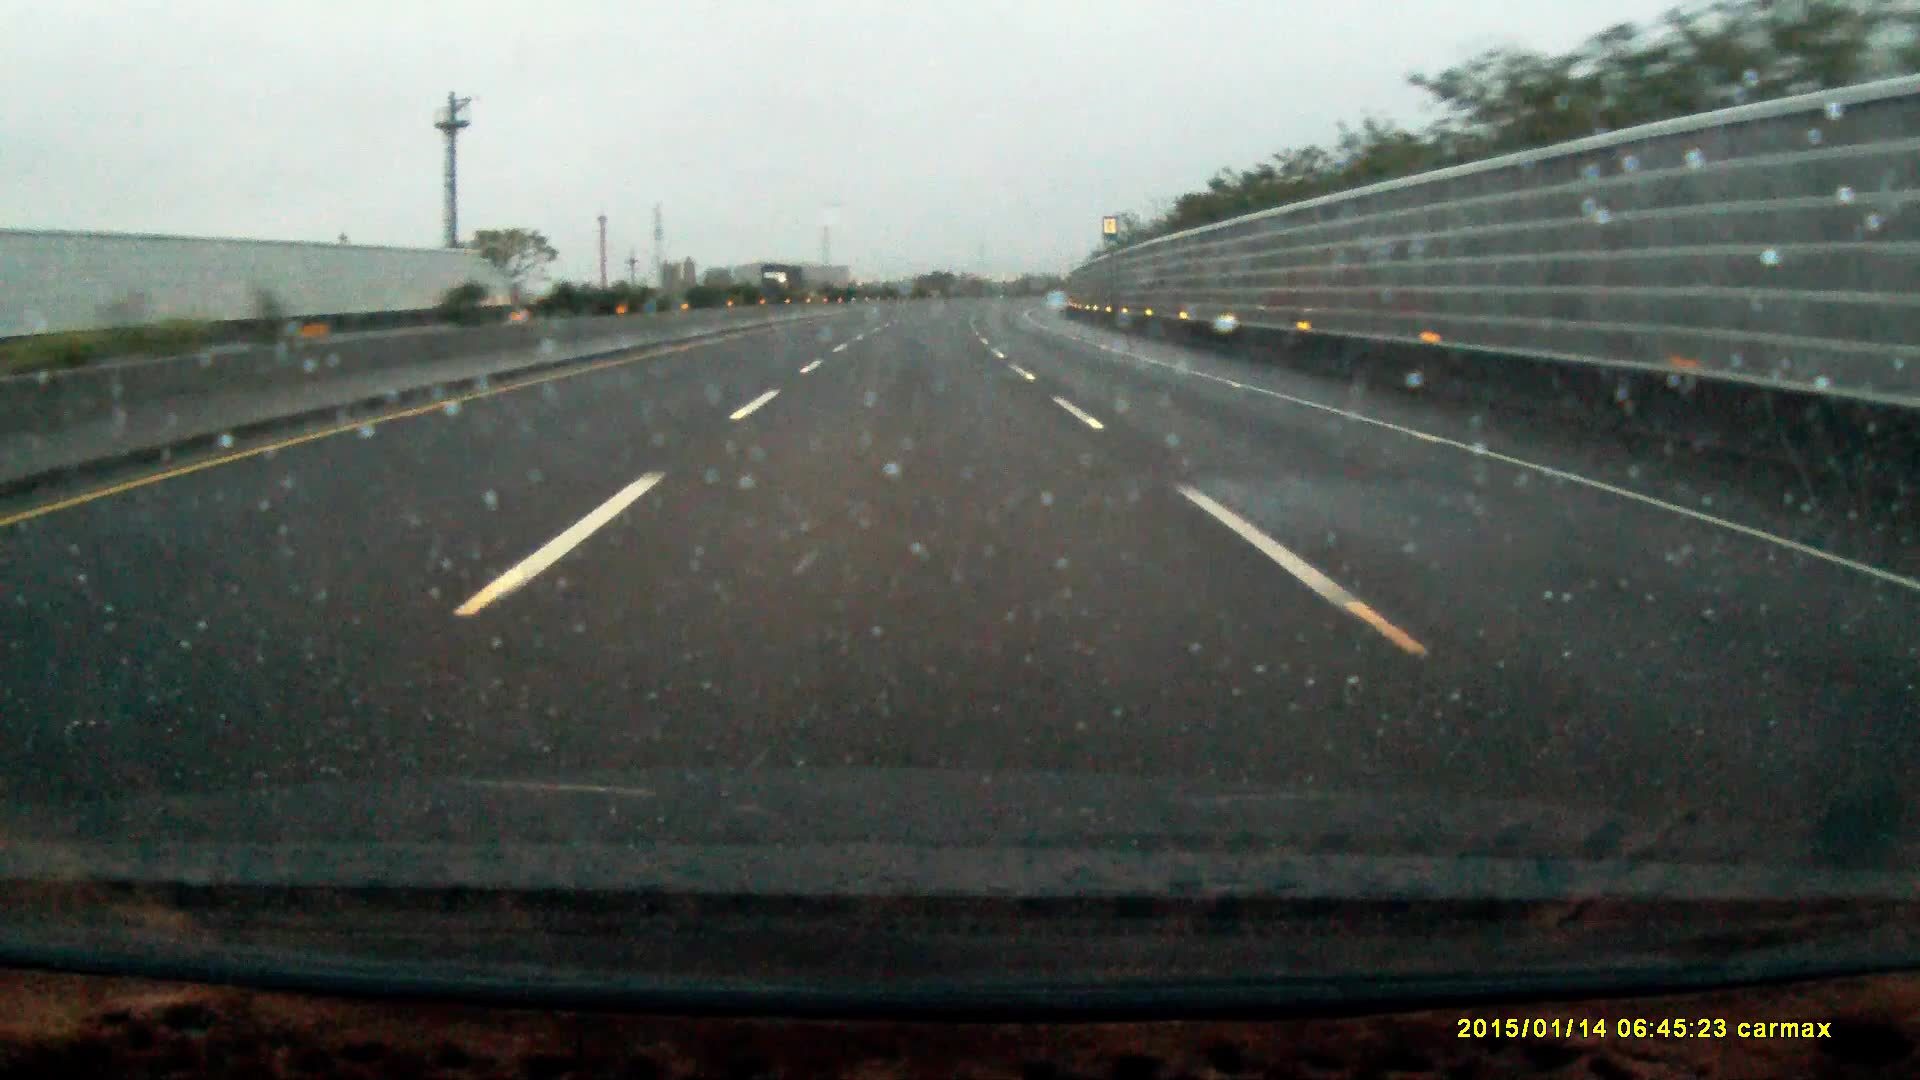vehicle: (760, 266, 806, 302)
